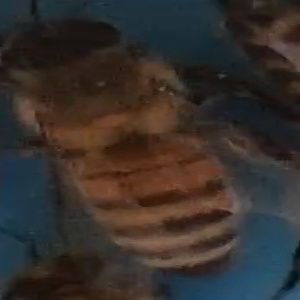bee: (5, 15, 252, 278), (5, 248, 162, 300)
